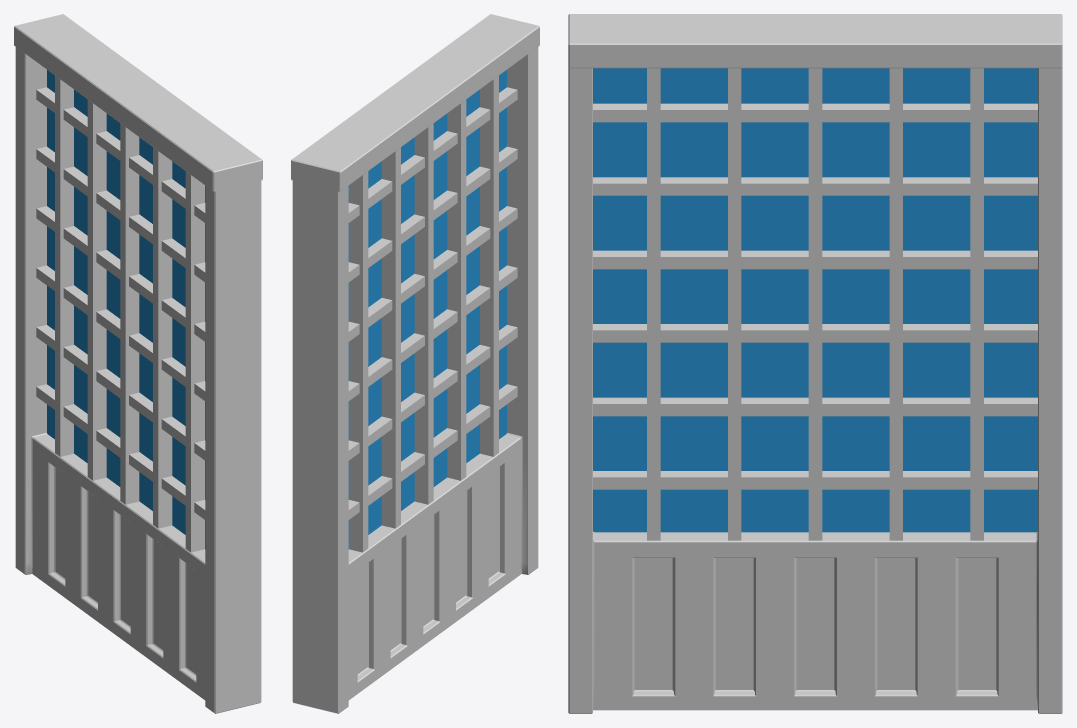
Rendered from WALLS4.fbx.
3 views of the same model, side by side, from view 1: azimuth 30°, elevation 25°; view 2: azimuth 150°, elevation 25°; view 3: azimuth 270°, elevation 25° (orthographic). The views are drawn at different scales.
Visible parts, largest first — view 1: Walll4; view 2: Walll4; view 3: Walll4.
Boxes of the visible parts, left/top/right/bottom form: Walll4: left=14, top=14, right=262, bottom=713; Walll4: left=291, top=14, right=539, bottom=713; Walll4: left=568, top=14, right=1062, bottom=713.
Size of the model in its own units: 28.99 by 300 by 200.
